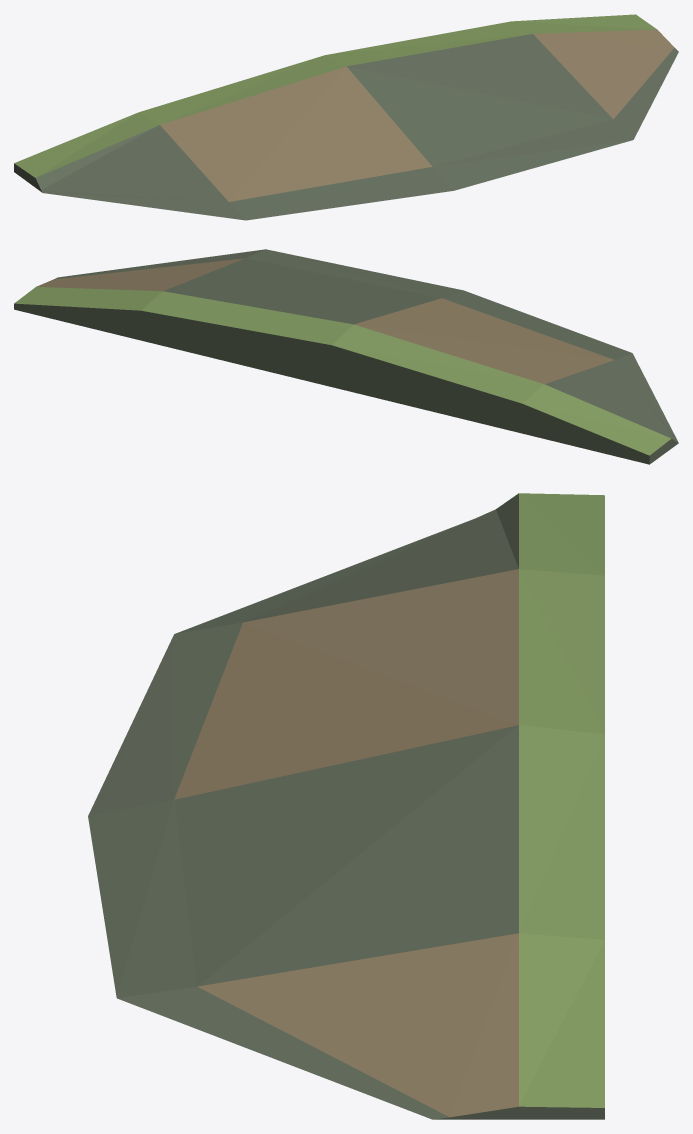
File: SM_MarshwardBankEdge_01.fbx
3 views of the same model, one above another, from view 1: azimuth 30°, elevation 25°; view 2: azimuth 150°, elevation 25°; view 3: azimuth 270°, elevation 25° (orthographic). The views are drawn at different scales.
Parts seen in each view (by area): view 1: SM_MarshwardBankEdge_01; view 2: SM_MarshwardBankEdge_01; view 3: SM_MarshwardBankEdge_01.
Boxes of the visible parts, x1,y1,x2,y2 form: SM_MarshwardBankEdge_01: (14,14,678,220); SM_MarshwardBankEdge_01: (14,249,678,464); SM_MarshwardBankEdge_01: (88,493,604,1119).
Size of the model in its own units: 1000 by 360 by 70.
